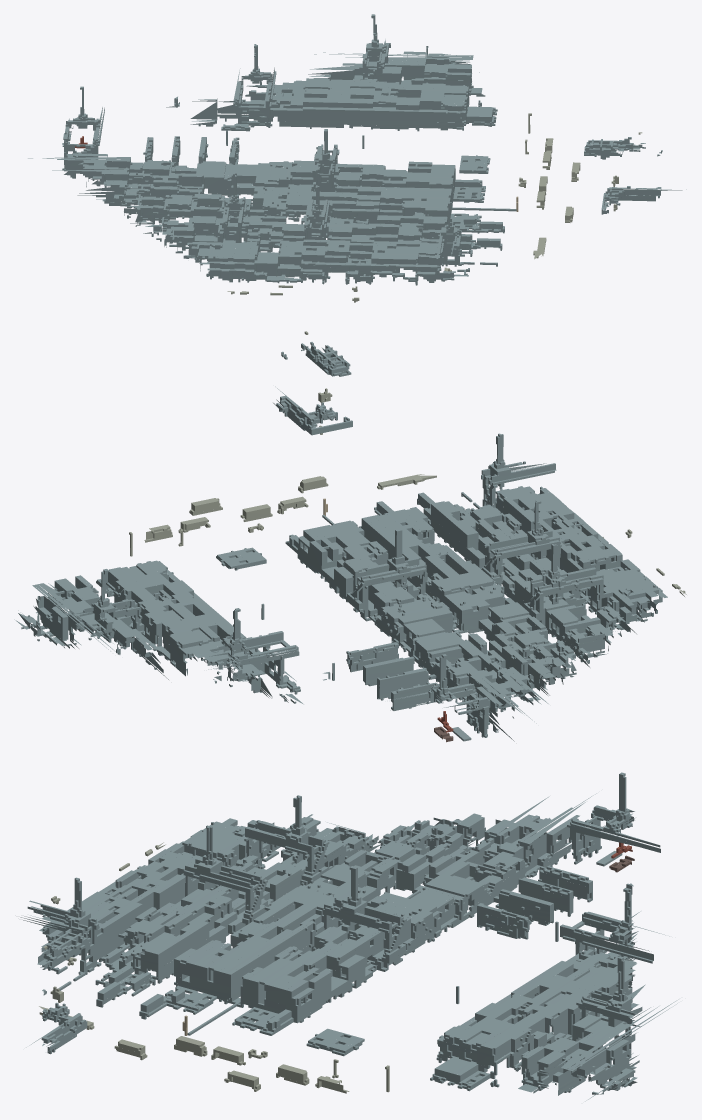
The picture shows the model from 3 angles, top to bottom: view 1: azimuth 30°, elevation 25°; view 2: azimuth 150°, elevation 25°; view 3: azimuth 270°, elevation 25°; orthographic projection. The views are drawn at different scales.
Visible parts, largest first — view 1: measured-industrial; view 2: measured-industrial; view 3: measured-industrial.
Part boxes in pixels (x1=…): measured-industrial: x1=28, y1=14, x2=686, y2=302; measured-industrial: x1=14, y1=331, x2=686, y2=742; measured-industrial: x1=20, y1=772, x2=678, y2=1101.
Size of the model in its own units: 294 by 65.25 by 286.
